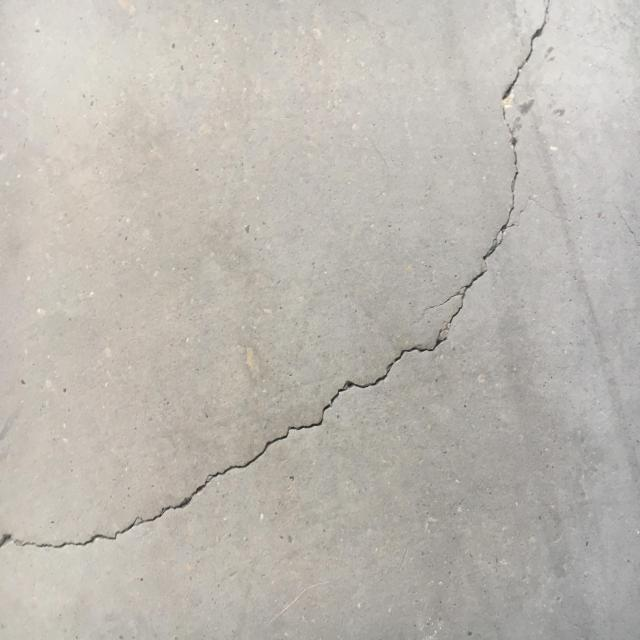SurfaceCrack: (2, 1, 573, 621)
